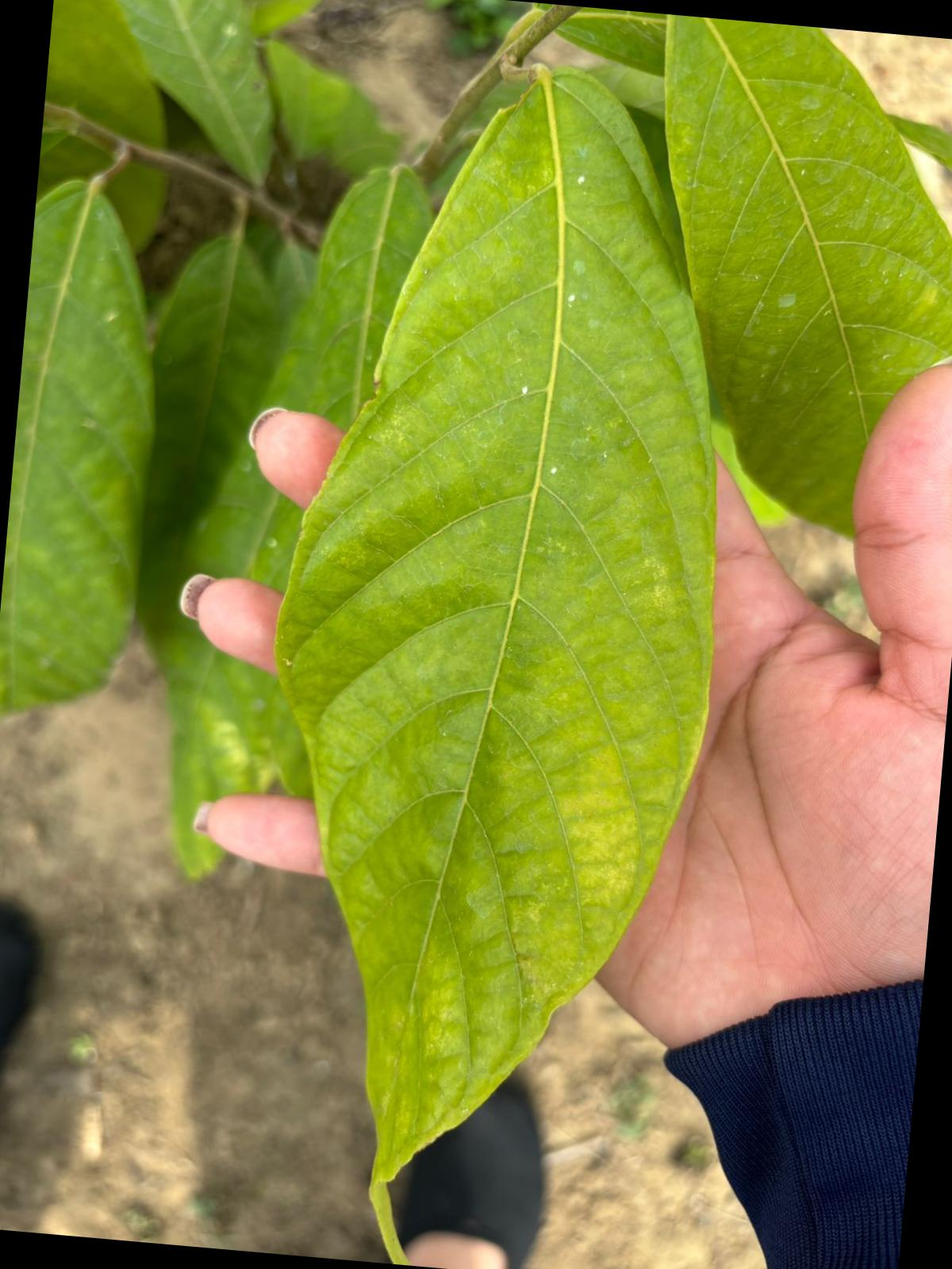Nitrogeno: (280, 73, 715, 1181), (665, 15, 952, 531)
